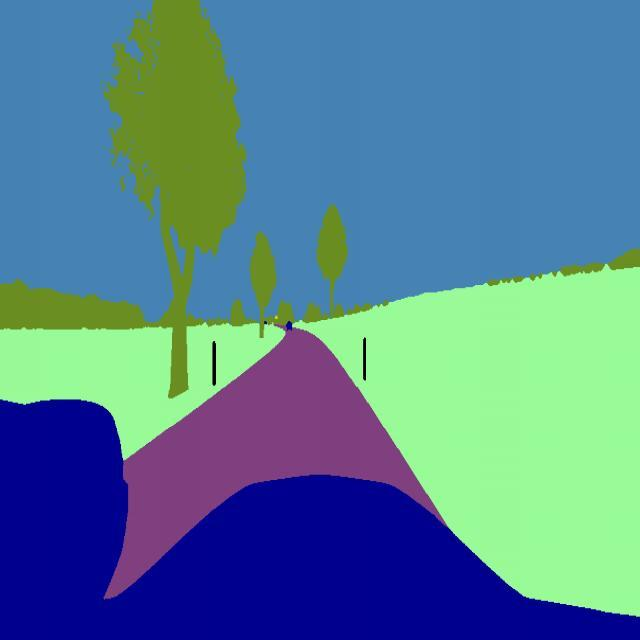unsafe: (0, 387, 130, 640)
